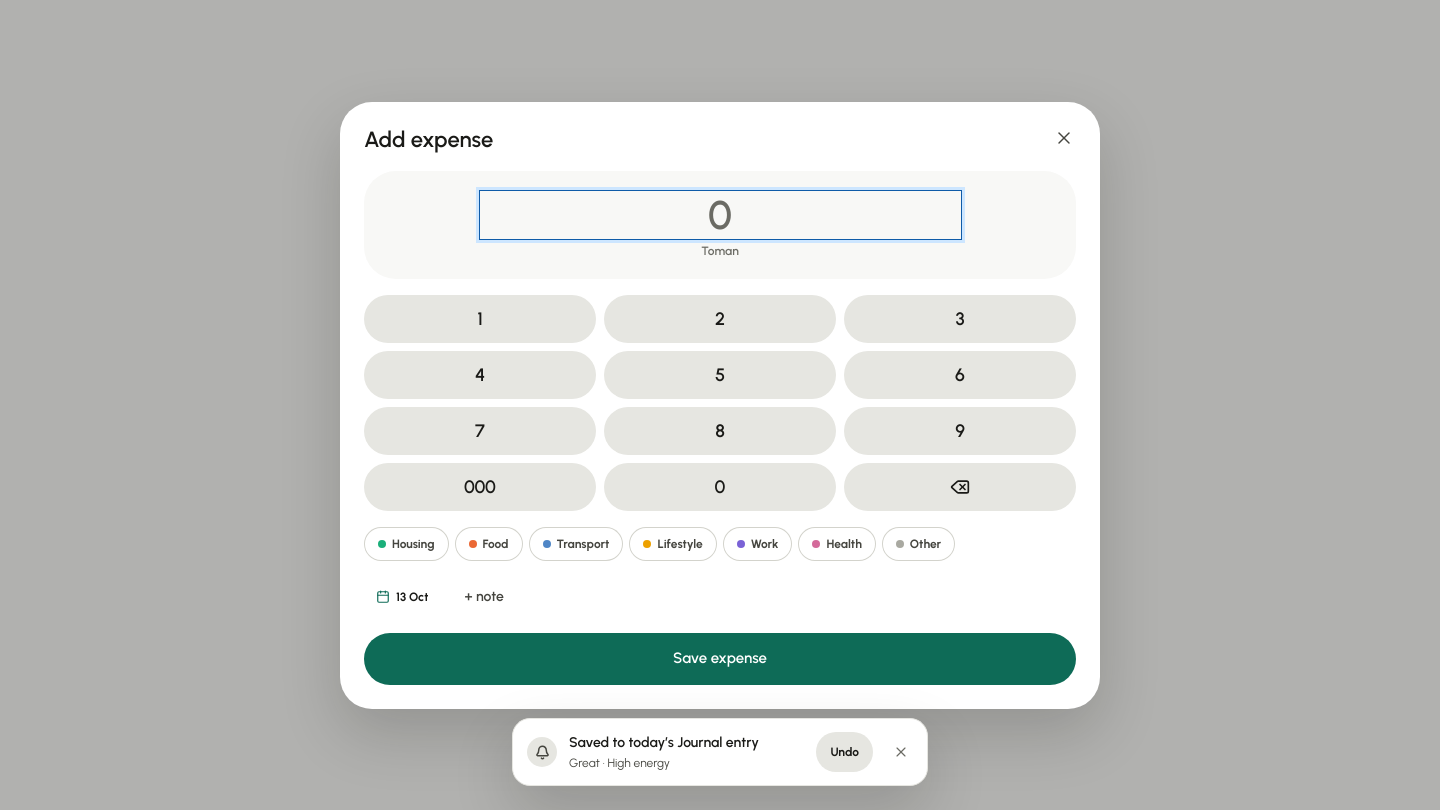
Scenario: SheetHost (P18 container rule) › Add expense asks for an amount and a category before saving
This screenshot has width=1440, height=810.
Click the button "Save expense": (720, 658) [364,632,1076,684]
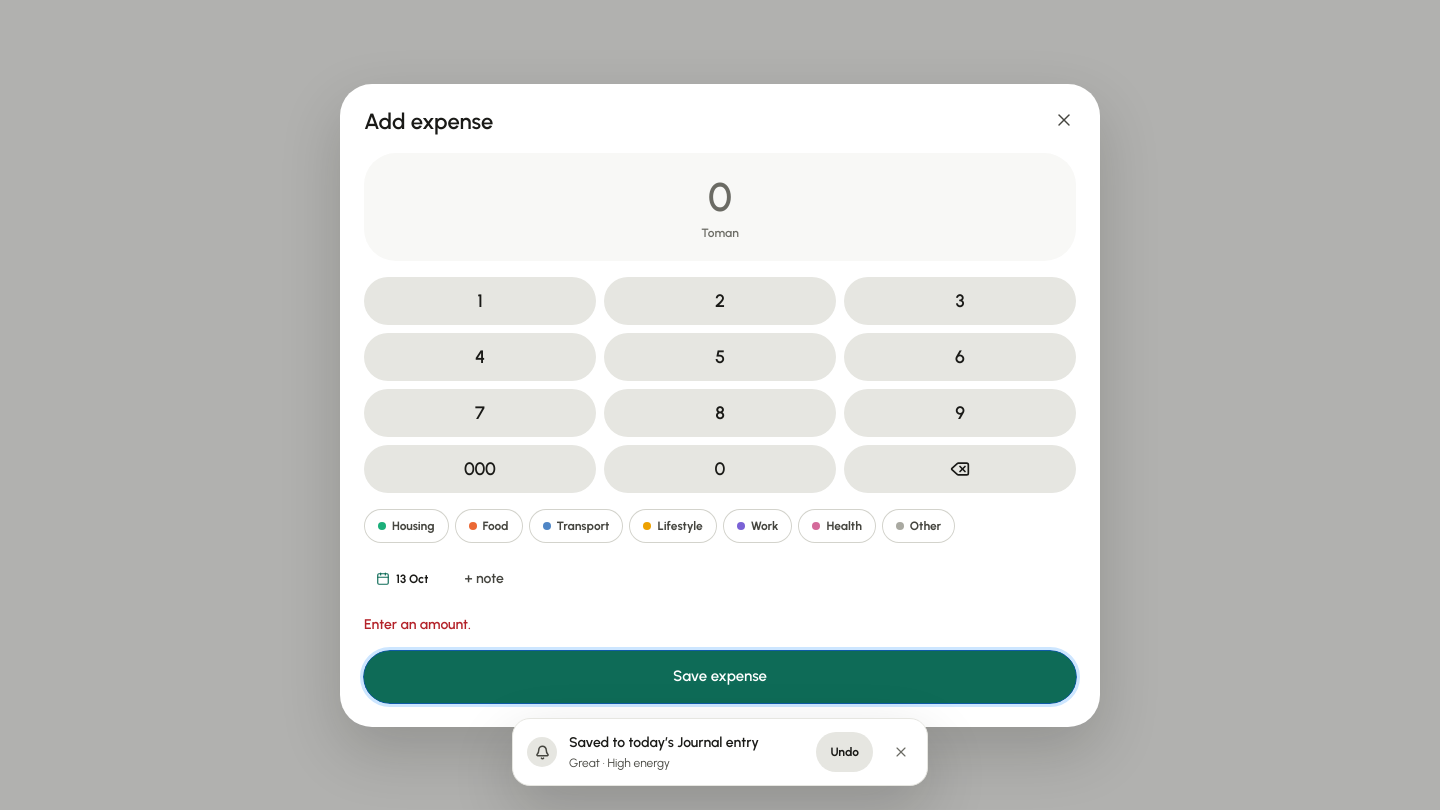
Expected: the message reads "Enter an amount.", [364,615,471,632]
Click the button "5": (720, 356) [604,332,836,380]
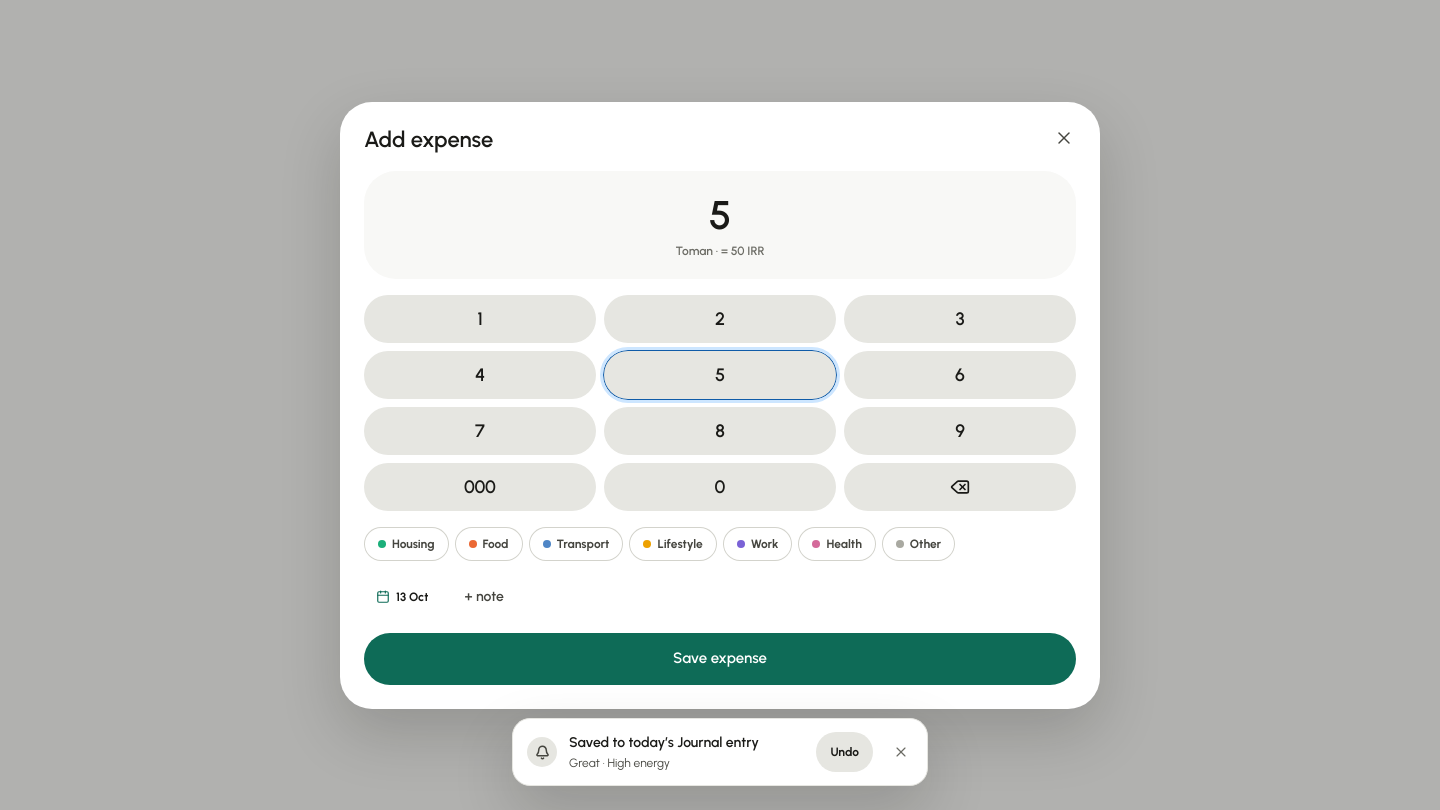
Click the button "Save expense": (720, 658) [364,632,1076,684]
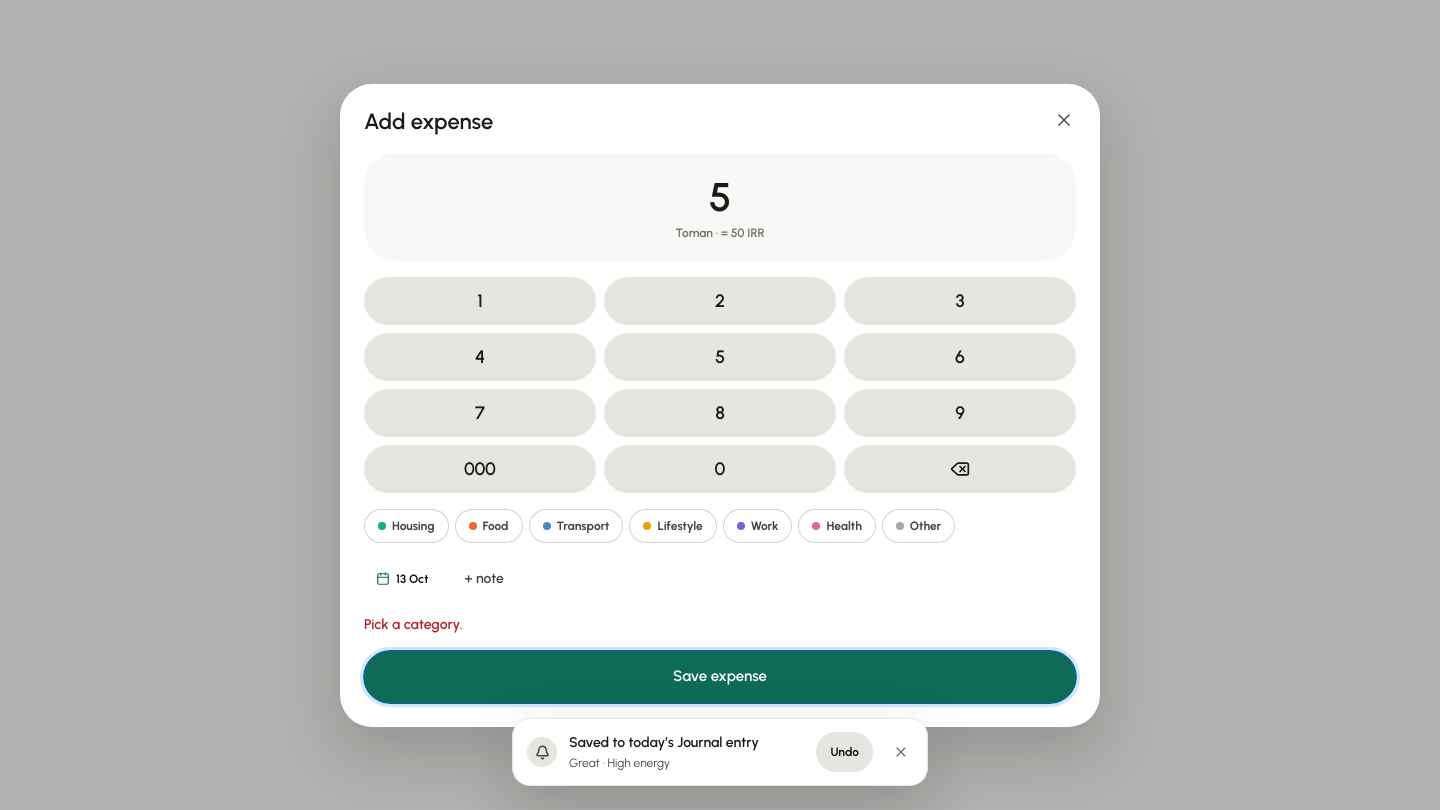
Expected: the message reads "Pick a category.", [364,615,463,632]
